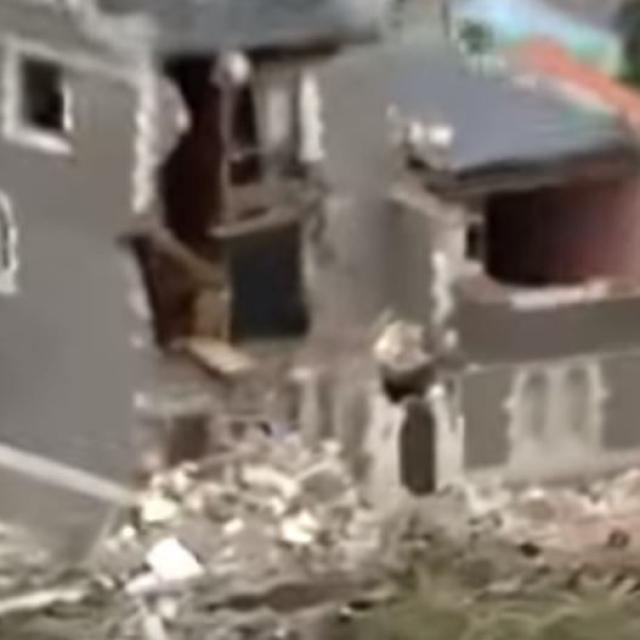collapsed_building: (55, 0, 635, 569)
